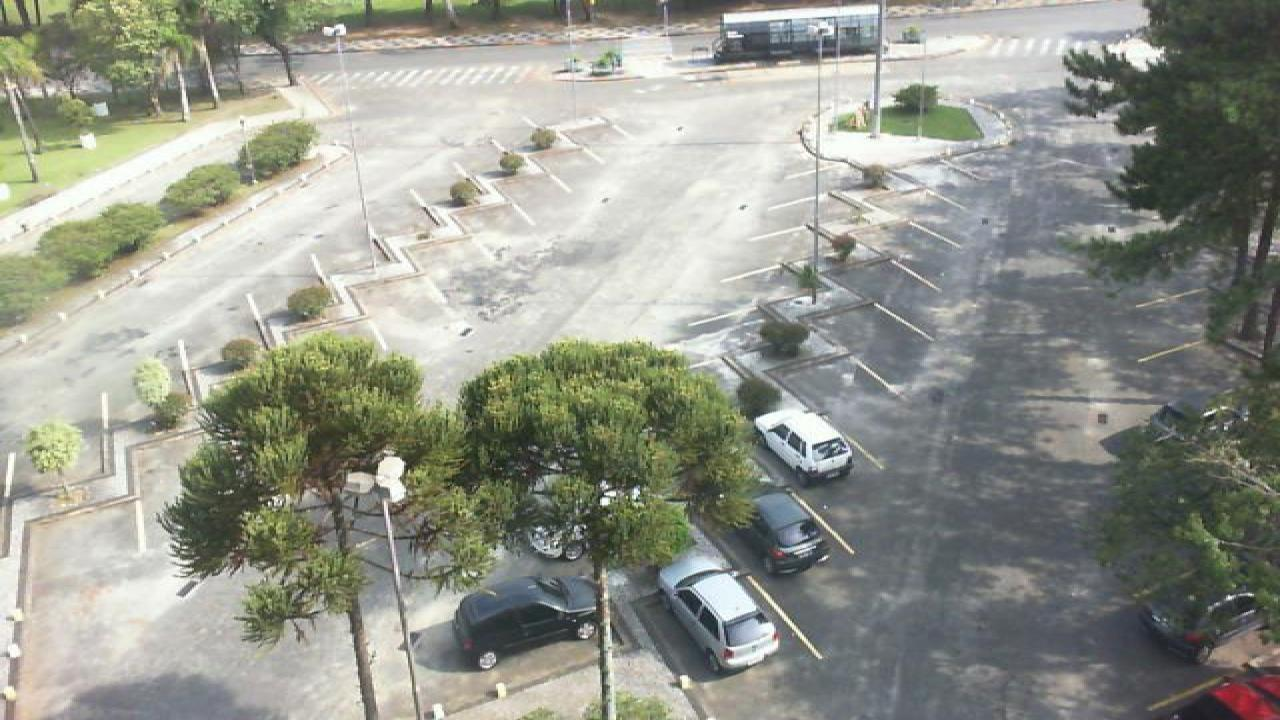Car: (656, 548, 782, 669), (450, 574, 602, 672), (1140, 576, 1280, 664), (730, 485, 834, 576), (522, 486, 644, 561), (752, 408, 856, 483), (1168, 674, 1280, 720), (1150, 398, 1236, 448)
